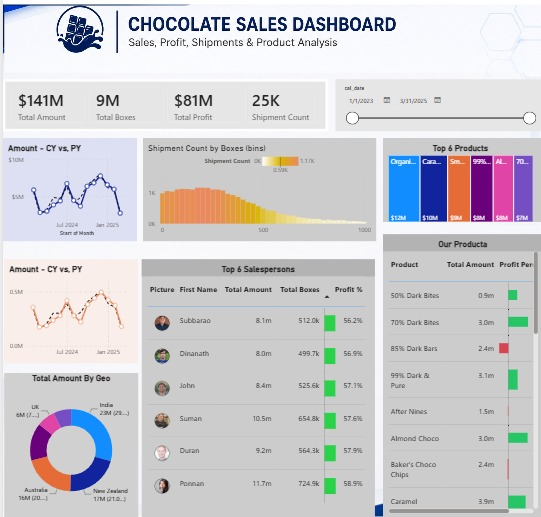

Layout of this report page (visuals, bound fields, positions):
{"tool":"powerbi","page":{"name":"Revenue Trend Analysis","canvas":[1280,720],"ordinal":4},"visuals":[{"type":"tableEx","fields":{"Values":["calendar.year","calendar.month_name","shipments.Total Amount","shipments.Total Amount(last year)","shipments.Total Amount(12 months Variance)"]},"box":[5.7,67.2,673.8,639.4],"z":0},{"type":"lineChart","fields":{"Y":["shipments.Total Amount","shipments.Total Amount(last year)","shipments.Total Amount(12 months Variance)"],"Category":["calendar.year","calendar.month_name"]},"box":[613.7,67.2,655.2,366.2],"z":1000},{"type":"donutChart","fields":{"Category":["locations.Geo"],"Y":["shipments.Total Amount"]},"box":[680,433,589,273],"z":2000}]}

Visuals, with their boxes on the page's 1280x720 design canvas (x1, y1, x2, y2). These are canvas units, not pixel positions in the 541x517 screenshot, which may show the page scaled, cropped or inside an application window:
tableEx - calendar.year x calendar.month_name: region(6, 67, 680, 707)
lineChart - shipments.Total Amount x shipments.Total Amount(last year): region(614, 67, 1269, 433)
donutChart - locations.Geo x shipments.Total Amount: region(680, 433, 1269, 706)
